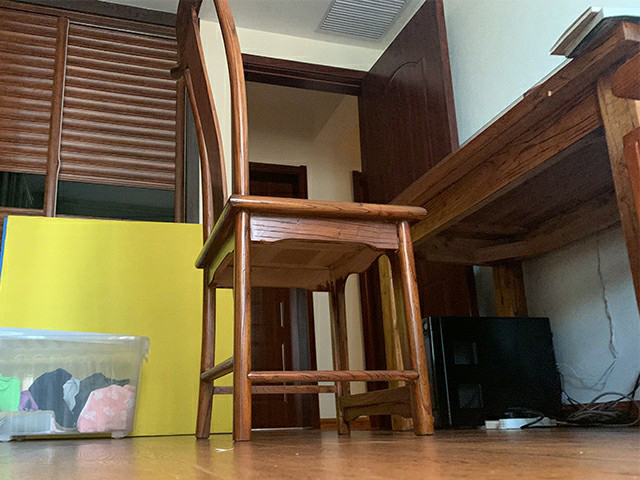stool: (169, 1, 430, 441)
table: (378, 16, 640, 435)
wire: (477, 373, 640, 432)
